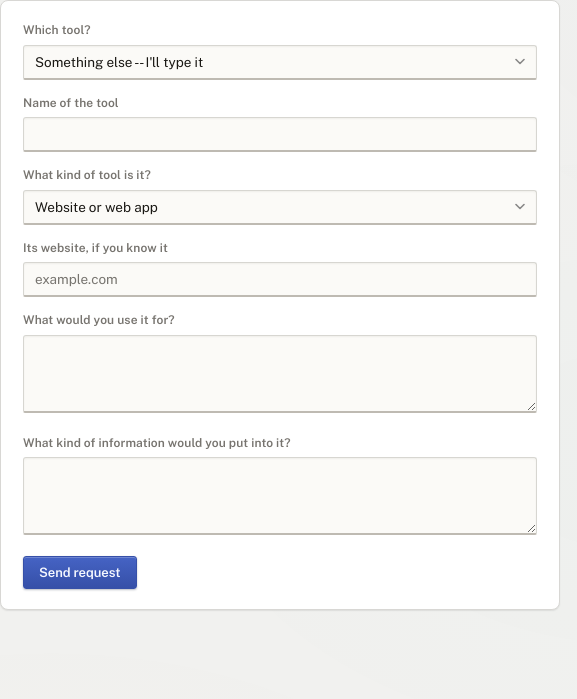
Scenario: RequestAIToolForm › needs a name for a tool that isn't listed, and a real reason
Type "too short" into the text box labelled "What would you use it for?".
click(280, 374); type("too short")  # box [23,335,537,413]
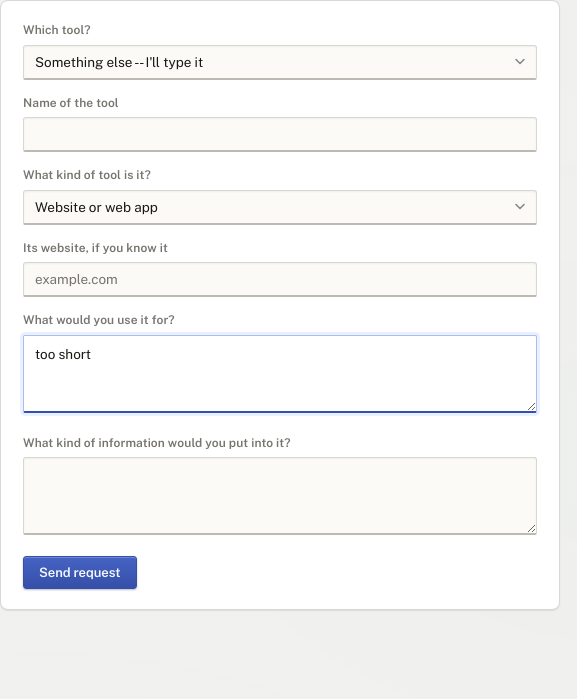
Click the button "Send request".
click(80, 572)  # box [23,556,136,589]
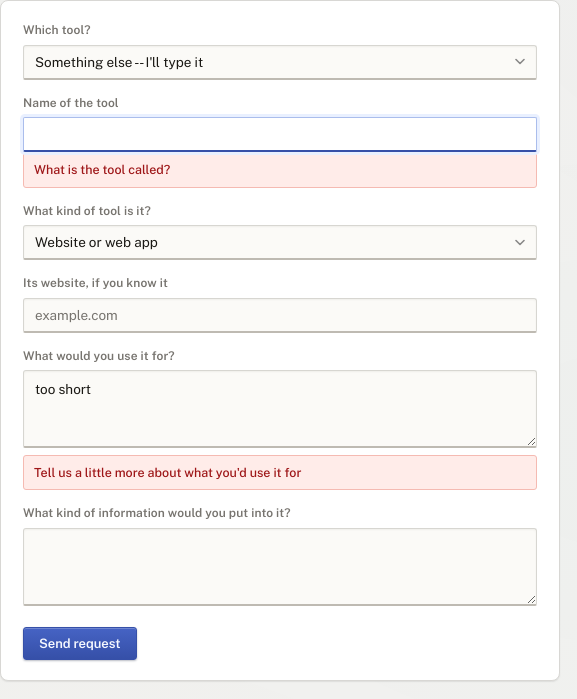
Now the text "What is the tool called?" is shown, box [23,152,537,188]
Now the text "Tell us a little more about what you'd use it for" is shown, box [23,455,537,490]
